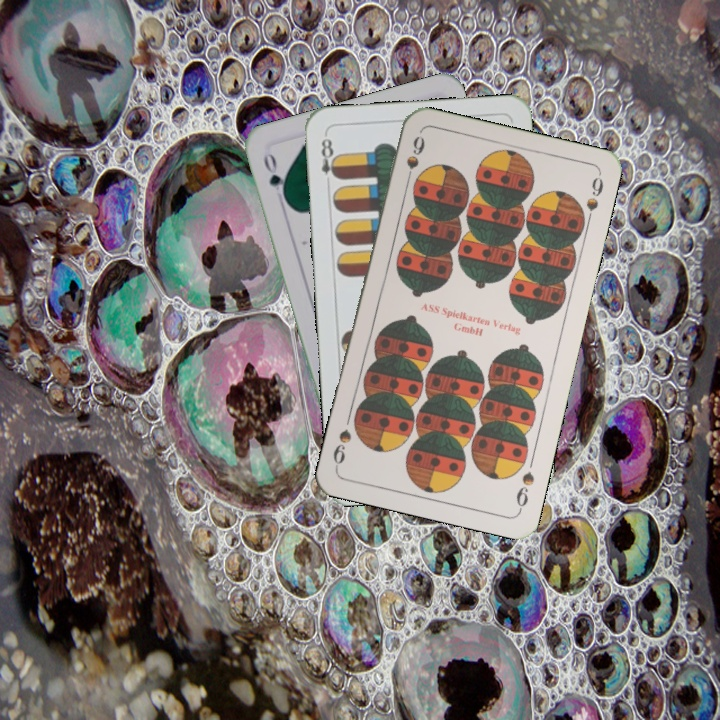E8: (317, 131, 341, 190)
GO: (259, 149, 290, 206)
S9: (401, 131, 428, 189), (512, 467, 537, 514)
